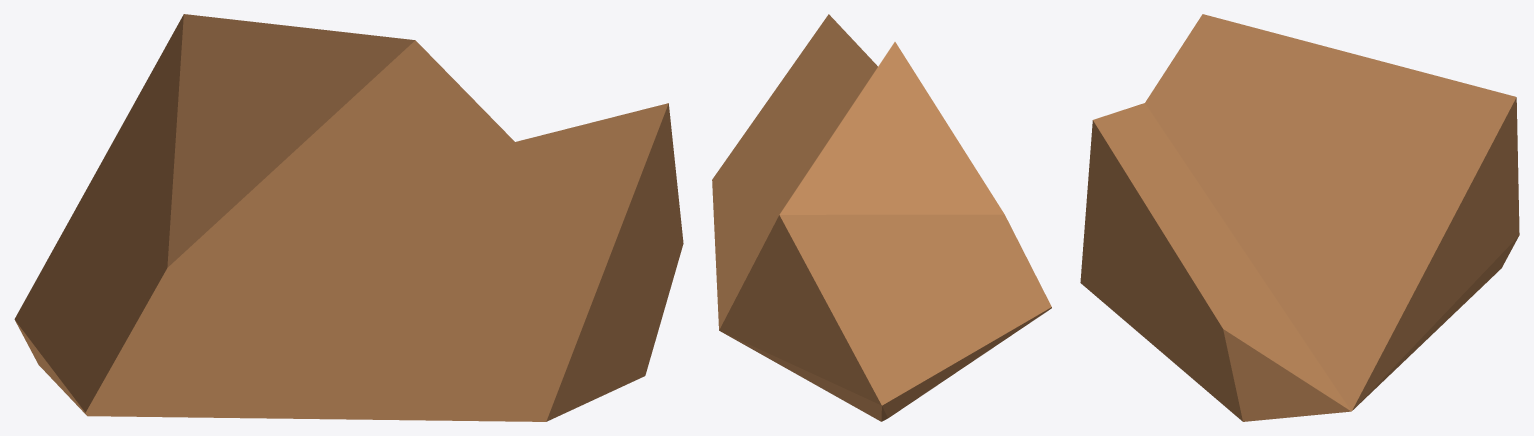
Rendered from asteroid_1_1.glb.
The picture shows the model from 3 angles, left to right: view 1: azimuth 30°, elevation 25°; view 2: azimuth 150°, elevation 25°; view 3: azimuth 270°, elevation 25°; orthographic projection. The views are drawn at different scales.
Visible parts, largest first — view 1: Asteriod_cell_1_1; view 2: Asteriod_cell_1_1; view 3: Asteriod_cell_1_1.
Boxes of the visible parts, x1,y1,x2,y2 form: Asteriod_cell_1_1: [14, 14, 683, 421]; Asteriod_cell_1_1: [712, 14, 1051, 421]; Asteriod_cell_1_1: [1080, 14, 1519, 421].
Size of the model in its own units: 1.48 by 1.08 by 1.31.
